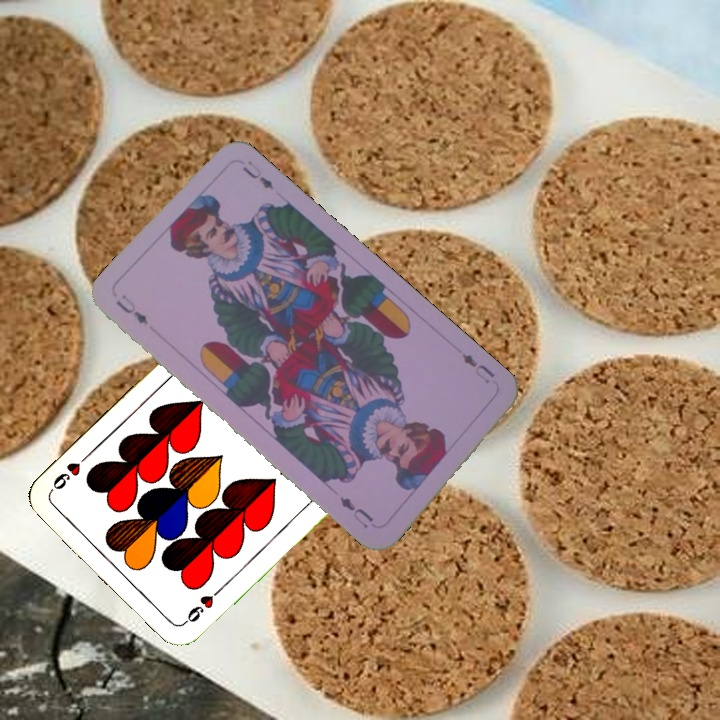EU: (458, 349, 498, 383), (111, 294, 151, 327)
H9: (178, 583, 226, 628)
